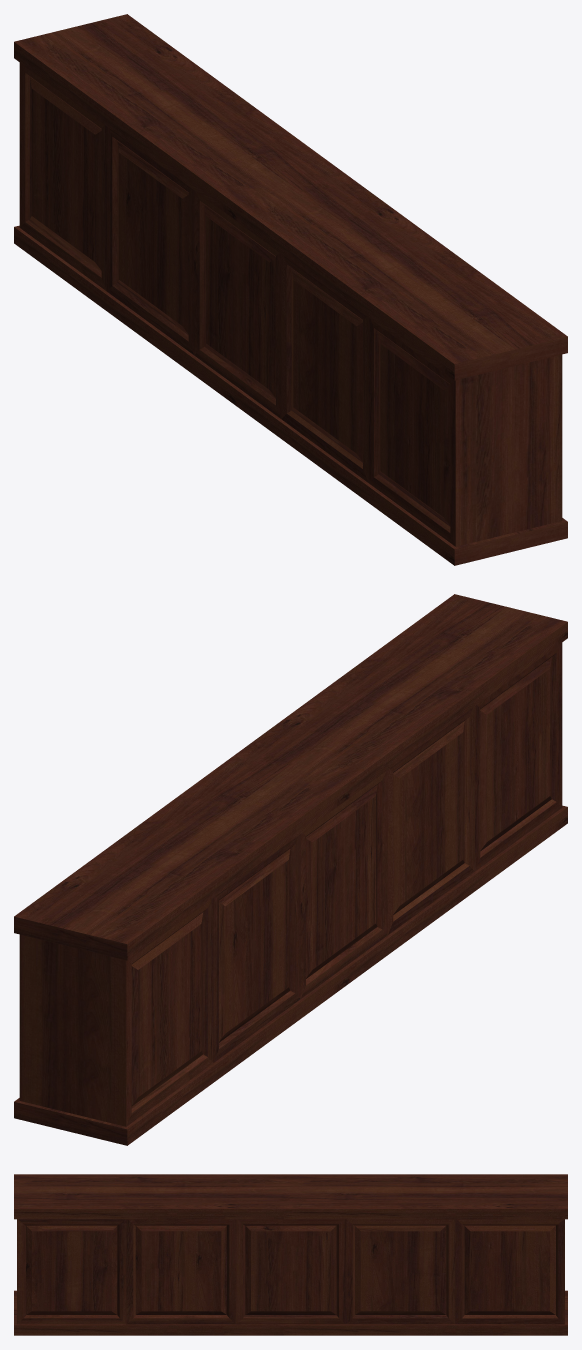
The model's file is CupboardShort.fbx.
3 views of the same model, one above another, from view 1: azimuth 30°, elevation 25°; view 2: azimuth 150°, elevation 25°; view 3: azimuth 270°, elevation 25° (orthographic). The views are drawn at different scales.
Visible parts, largest first — view 1: CupboardShort; view 2: CupboardShort; view 3: CupboardShort.
Part boxes in pixels (x1,y1,x2,y2): CupboardShort: (14, 14, 567, 565); CupboardShort: (14, 594, 567, 1145); CupboardShort: (14, 1174, 567, 1335).
Bounding box in the file's own units: 4.38 × 7.44 × 29.45.
1 material, 1 textured.
